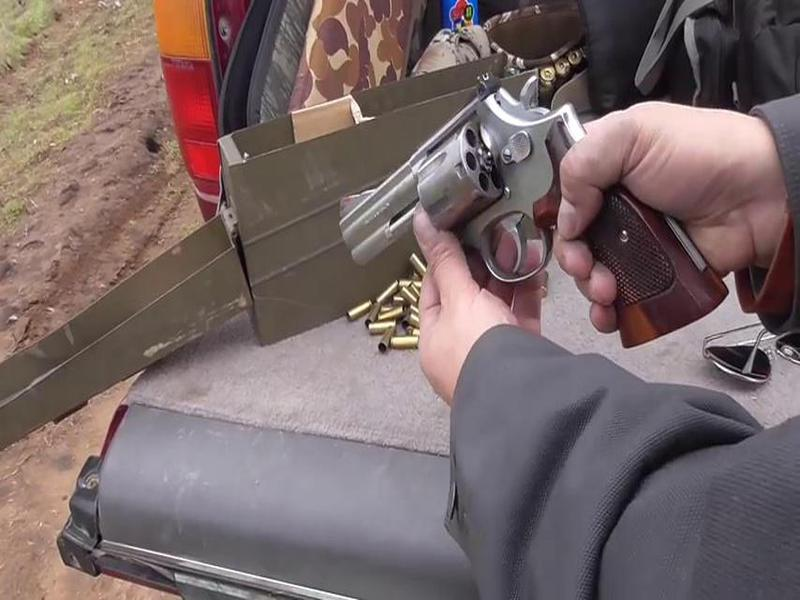Revolver: (302, 61, 723, 373)
